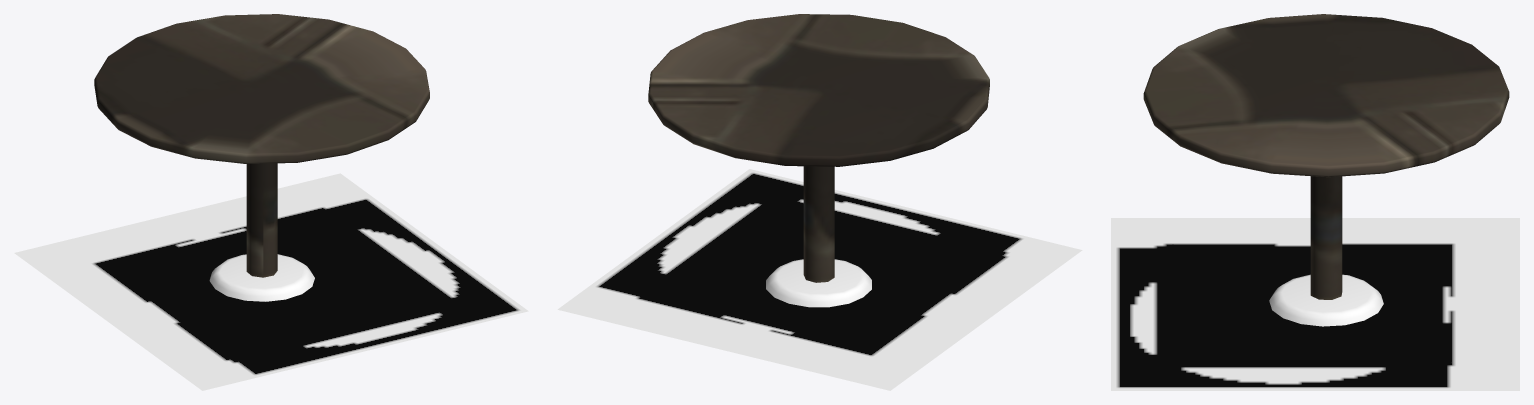
File: table_1.fbx
3 views of the same model, side by side, from view 1: azimuth 30°, elevation 25°; view 2: azimuth 150°, elevation 25°; view 3: azimuth 270°, elevation 25° (orthographic). The views are drawn at different scales.
Visible parts, largest first — view 1: table_1; view 2: table_1; view 3: table_1.
Part boxes in pixels (box(x1,y1,x2,y2)): table_1: box(14, 14, 528, 390); table_1: box(557, 14, 1082, 390); table_1: box(1111, 14, 1519, 390).
Bounding box in the file's own units: 1.5 × 0.8604 × 1.5.
